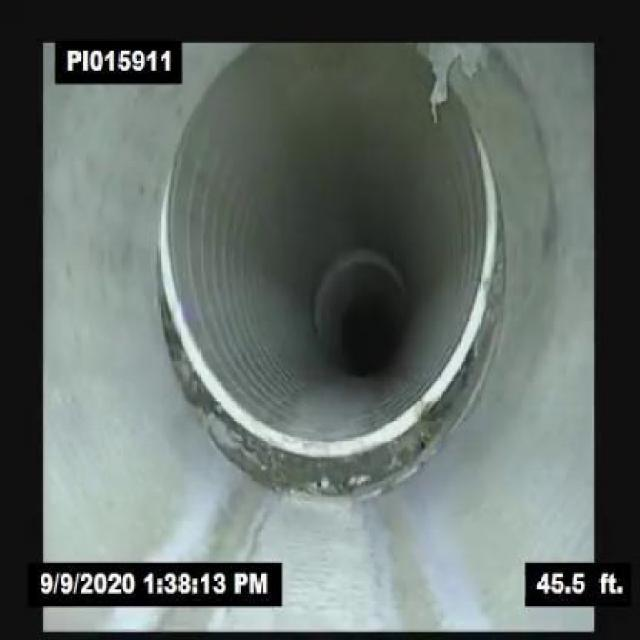Joint offset: (151, 202, 503, 520)
